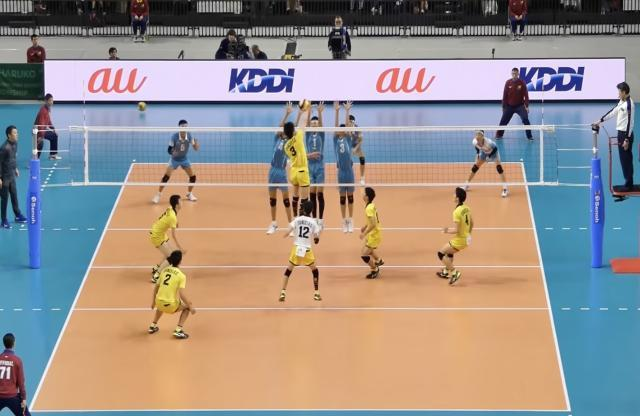spike: (280, 98, 316, 223)
